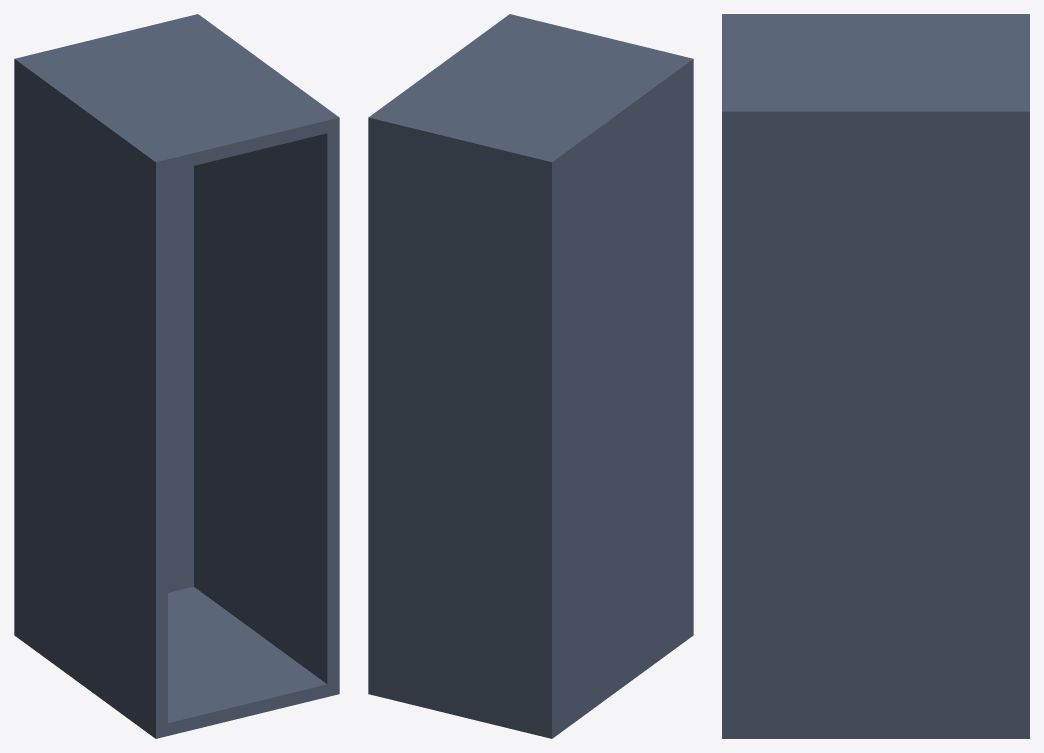
The model's file is Kitchen1_C4_09.fbx.
The picture shows the model from 3 angles, left to right: view 1: azimuth 30°, elevation 25°; view 2: azimuth 150°, elevation 25°; view 3: azimuth 270°, elevation 25°; orthographic projection. The views are drawn at different scales.
Parts seen in each view (by area): view 1: Kitchen1_C4_09; view 2: Kitchen1_C4_09; view 3: Kitchen1_C4_09.
Part boxes in pixels (<box>): Kitchen1_C4_09: <box>14,14,339,738</box>; Kitchen1_C4_09: <box>368,14,693,738</box>; Kitchen1_C4_09: <box>722,14,1029,738</box>.
Bounding box in the file's own units: 30 × 90 × 40.
